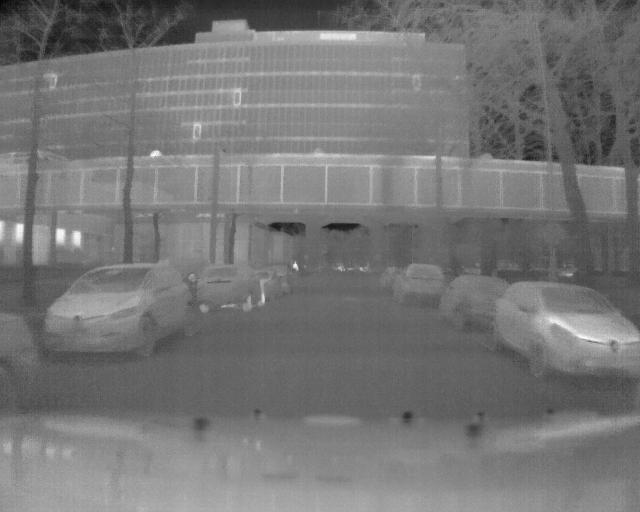car: (499, 278, 638, 390), (45, 256, 204, 349), (195, 267, 269, 309), (443, 272, 490, 325), (398, 261, 442, 303), (277, 258, 303, 293)
